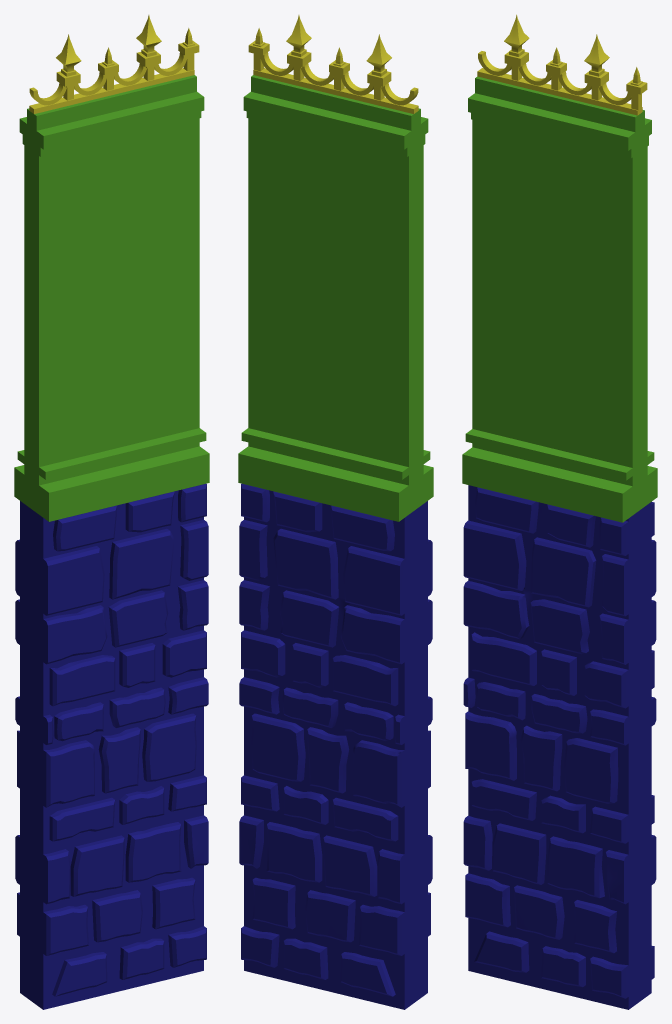
The model's file is SM_fence_int.fbx.
3 views of the same model, side by side, from view 1: azimuth 30°, elevation 25°; view 2: azimuth 150°, elevation 25°; view 3: azimuth 330°, elevation 25° (orthographic).
Visible parts, largest first — view 1: Plane009, Box005, GRILLAGE003; view 2: Plane009, Box005, GRILLAGE003; view 3: Plane009, Box005, GRILLAGE003.
Part boxes in pixels (x1,y1,x2,y2): Plane009: (15, 483, 208, 1009); Box005: (14, 75, 209, 521); GRILLAGE003: (29, 15, 199, 113); Plane009: (239, 483, 432, 1009); Box005: (238, 75, 433, 521); GRILLAGE003: (248, 15, 418, 113); Plane009: (463, 485, 656, 1009); Box005: (462, 76, 657, 522); GRILLAGE003: (477, 14, 647, 115).
Size of the model in its own units: 205 by 1141 by 75.
